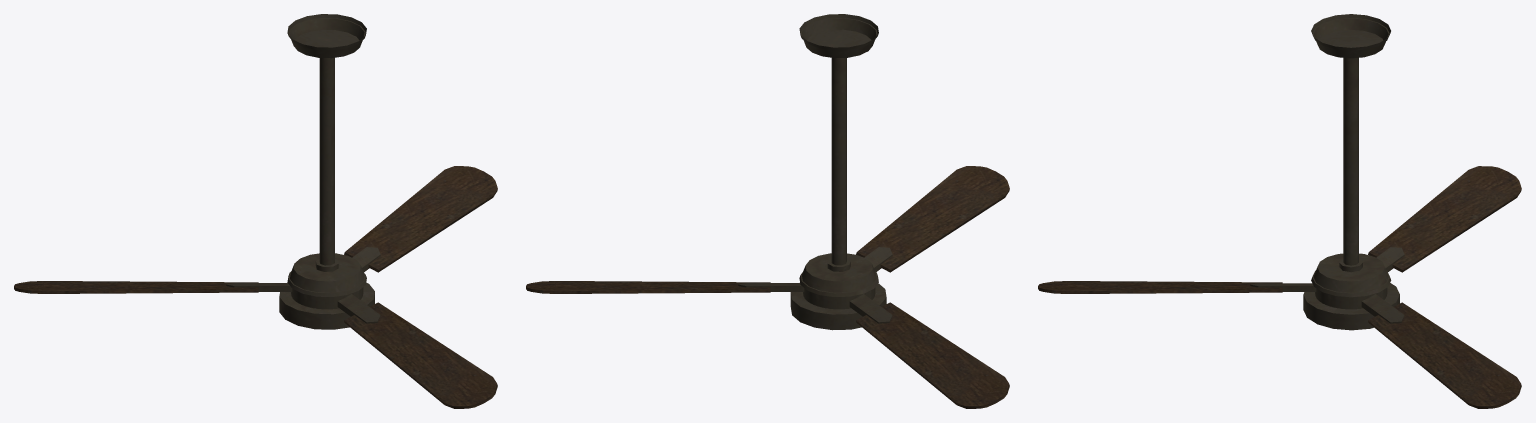
Rendered from ceiling_fan_mp_1.obj.
3 renders of one model, left to right at view 1: azimuth 30°, elevation 25°; view 2: azimuth 150°, elevation 25°; view 3: azimuth 270°, elevation 25°, orthographic.
Parts seen in each view (by area): view 1: ceiling_fan_mp_1_blades, ceiling_fan_mp_1; view 2: ceiling_fan_mp_1_blades, ceiling_fan_mp_1; view 3: ceiling_fan_mp_1_blades, ceiling_fan_mp_1.
Boxes of the visible parts, box(x1,y1,x2,y2) form: ceiling_fan_mp_1_blades: box(14, 166, 497, 408); ceiling_fan_mp_1: box(279, 14, 374, 329); ceiling_fan_mp_1_blades: box(526, 166, 1009, 408); ceiling_fan_mp_1: box(790, 14, 886, 330); ceiling_fan_mp_1_blades: box(1038, 166, 1521, 408); ceiling_fan_mp_1: box(1303, 14, 1399, 330).
Bounding box in the file's own units: 1.02 × 0.5915 × 0.8979.
